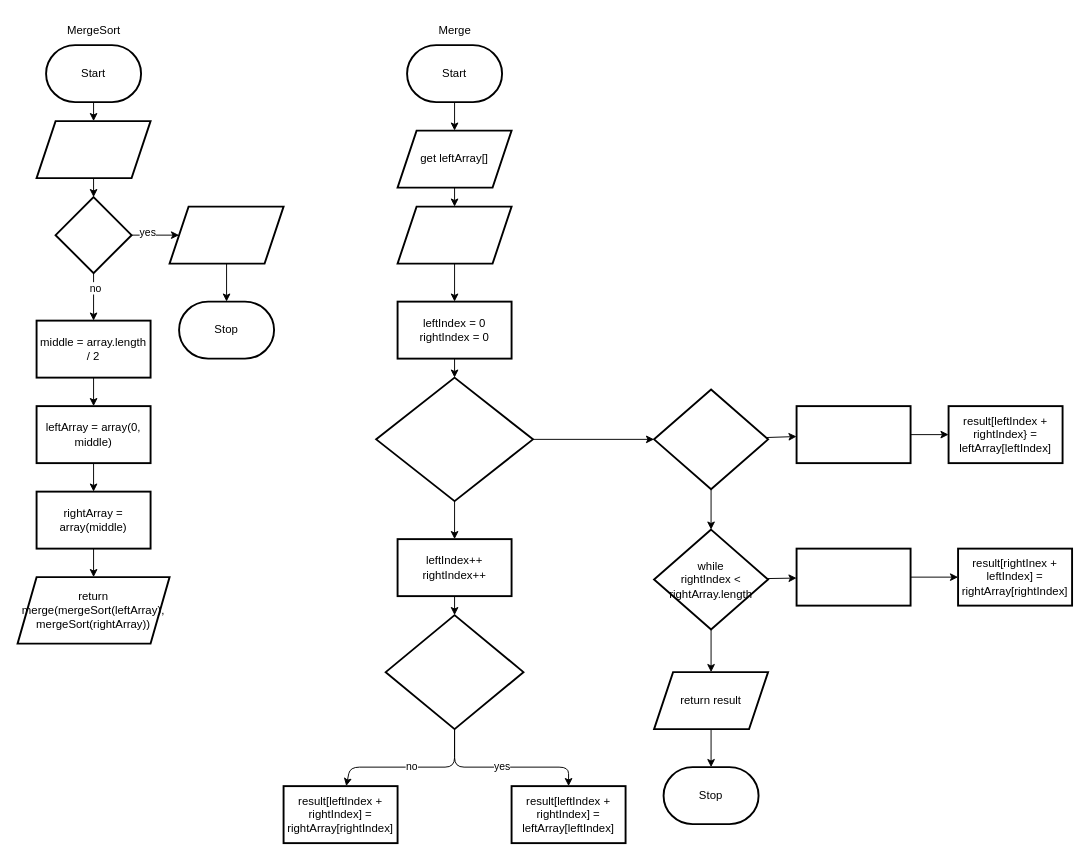
This 1089x860 diagram has some shape labels left out. The shapes that lost their labels are listed below. From the top down, each one's box as (x1, y1, x2, y2) in pixels, then its label:
(35, 120, 151, 179): get array[]
(54, 196, 132, 274): if array.length < 2
(168, 205, 284, 264): return array
(396, 205, 512, 264): get rightArray[]
(375, 376, 533, 502): while leftIndex < leftArray.length && rightIndex < rightArray.length
(653, 388, 769, 490): while leftIndex < leftArray.length
(795, 405, 911, 464): leftIndex++
(795, 547, 911, 606): rightIndex++
(384, 614, 524, 730): if leftArray[leftIndex] < rightArray[rightIndex]
